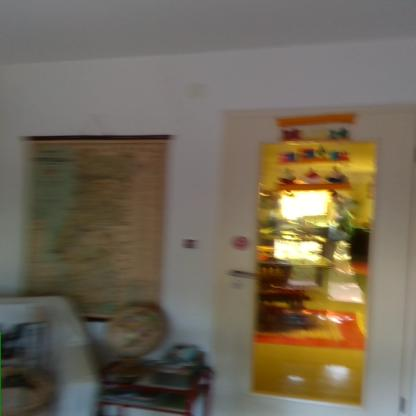closed: (214, 91, 408, 416)
